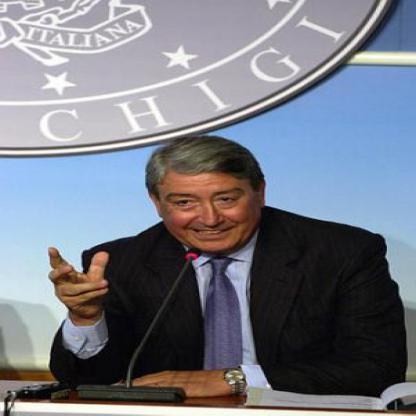face: (158, 146, 261, 253)
